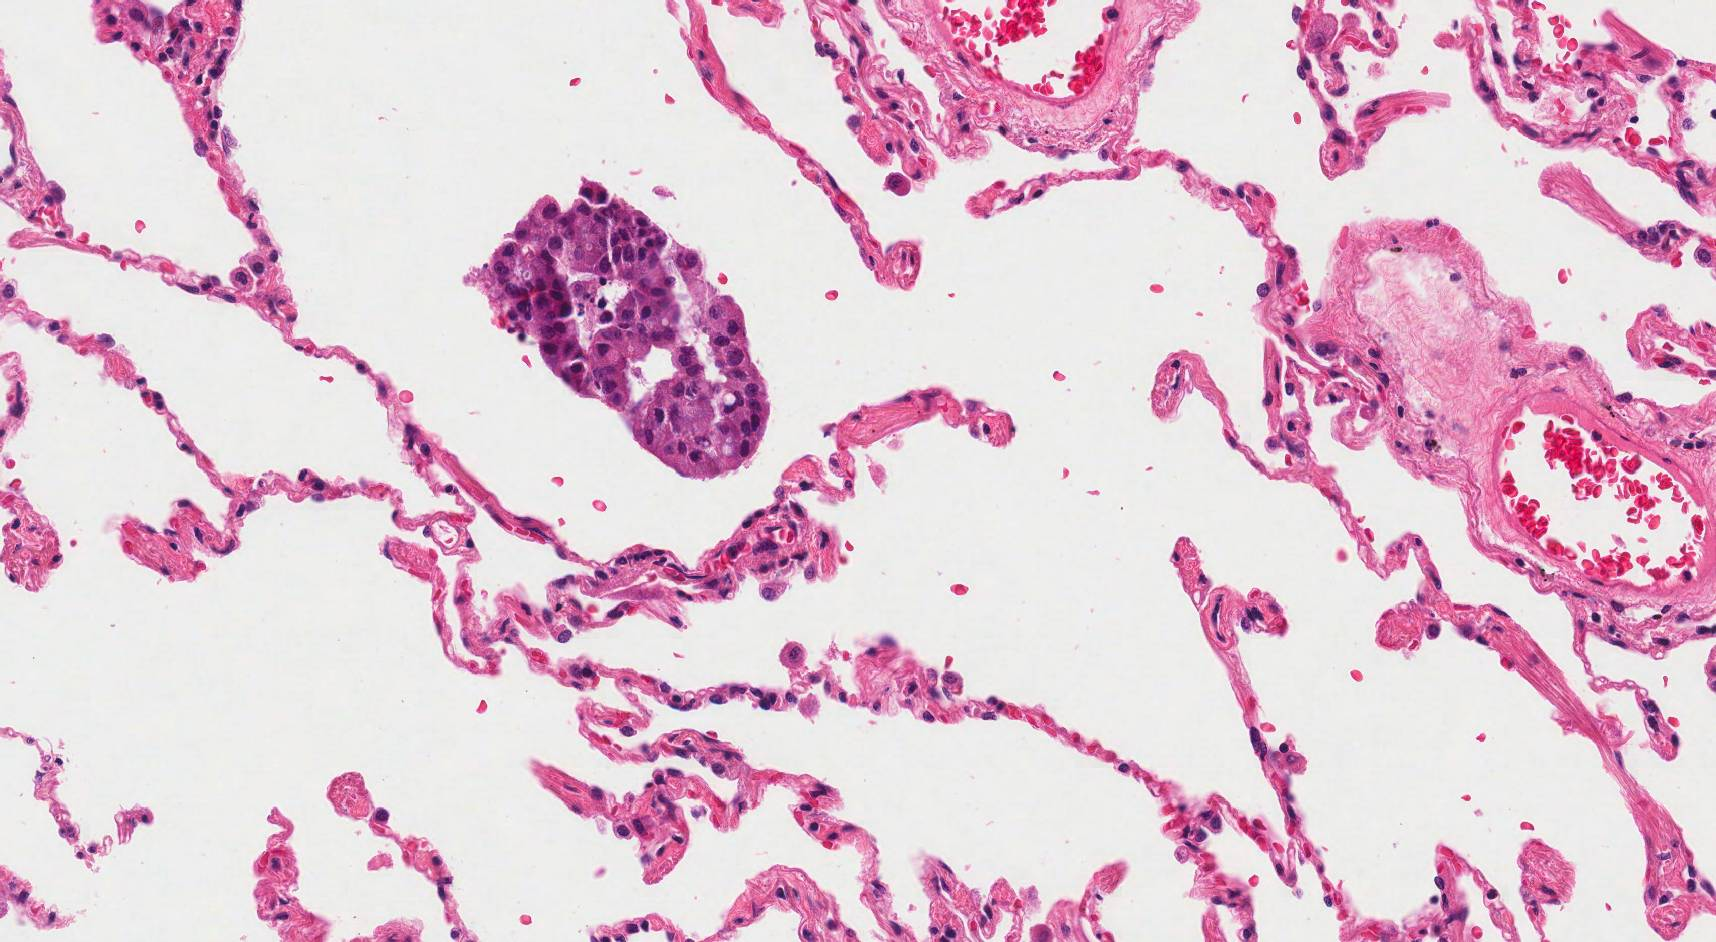stas: (484, 180, 769, 482)
